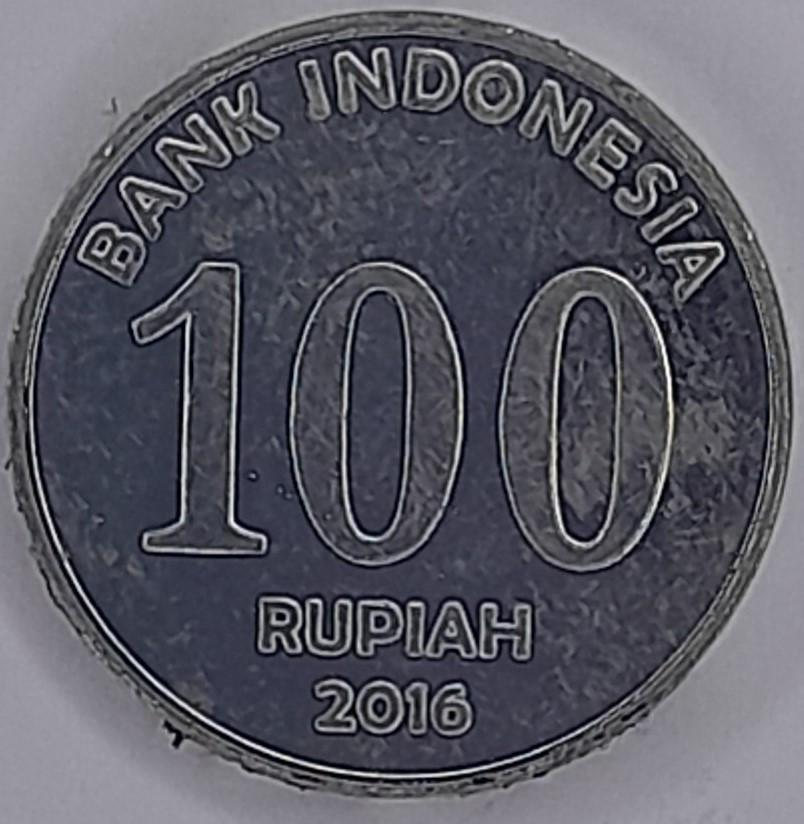coin_100_e2016: (1, 3, 798, 802)
